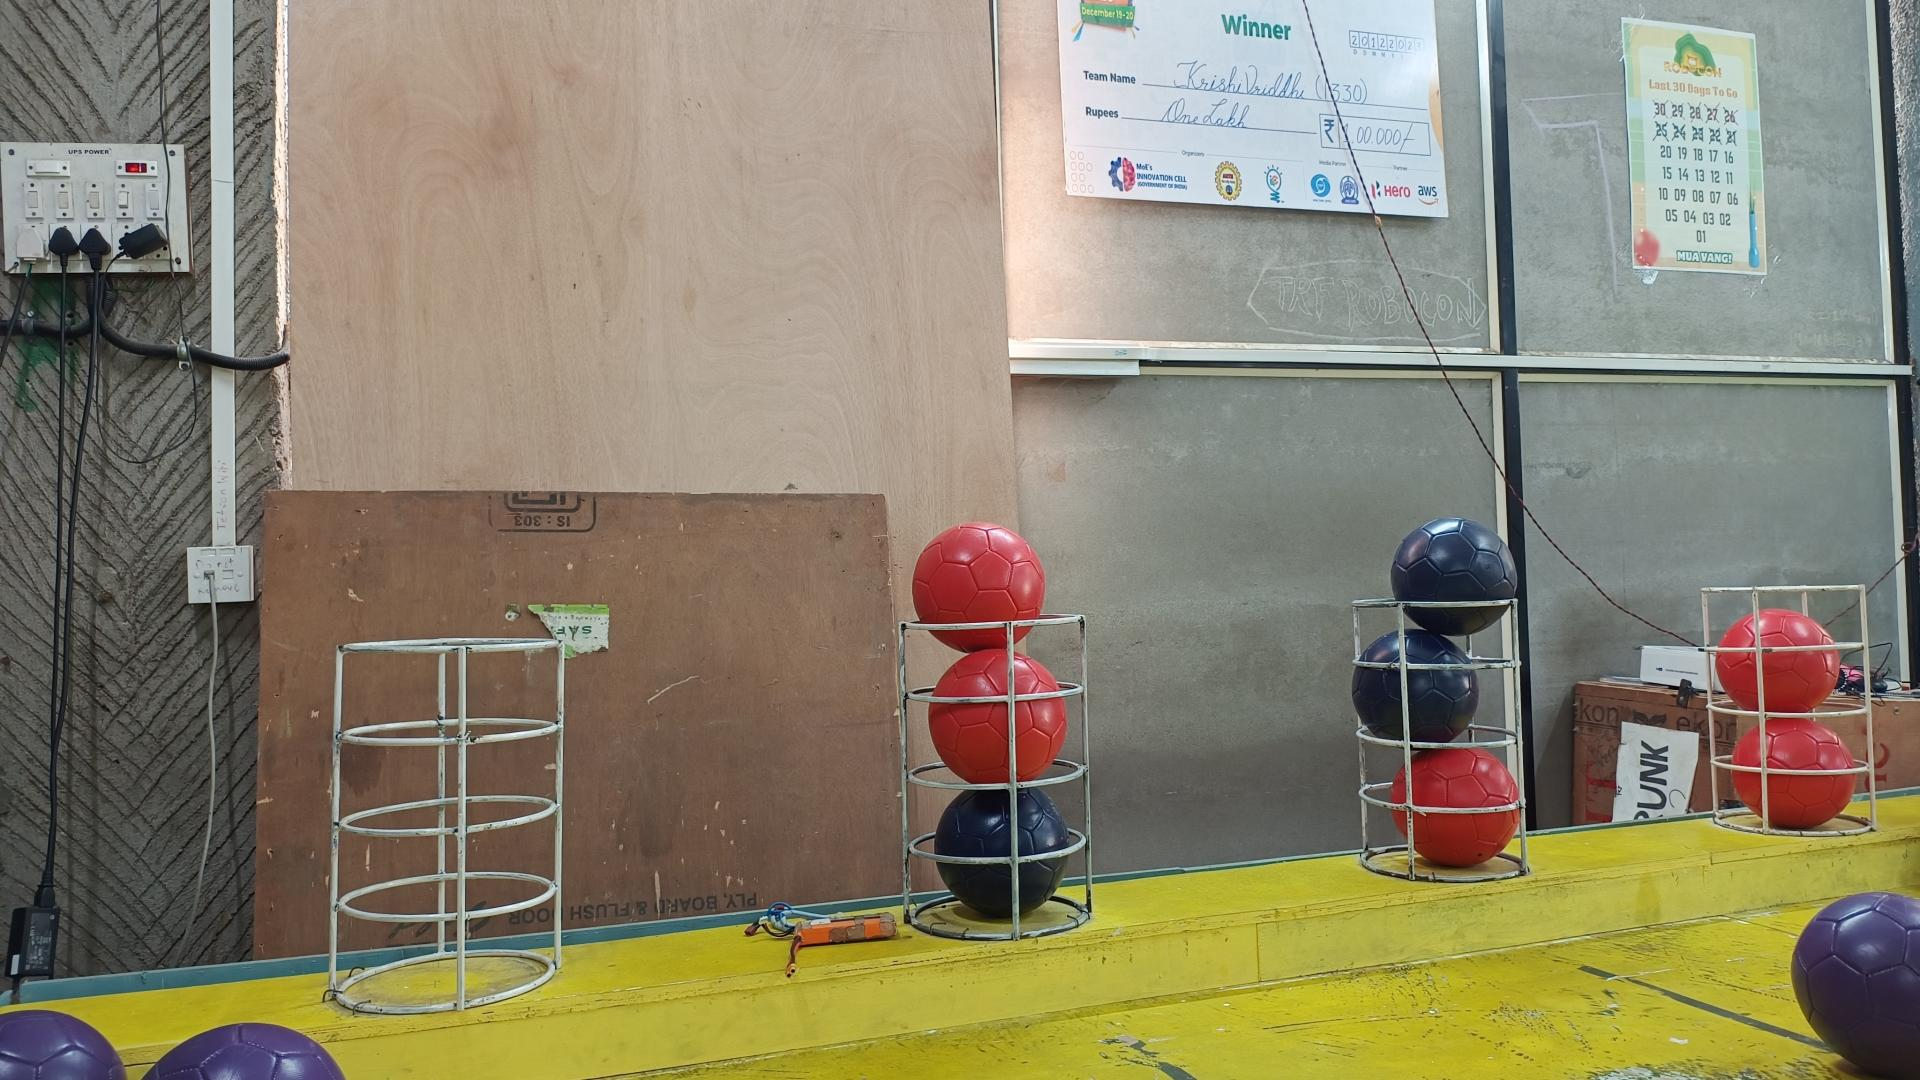dhoka: (932, 786, 1071, 916), (1390, 517, 1518, 637), (1353, 629, 1480, 742)
laale: (928, 649, 1067, 783), (914, 521, 1044, 653), (1387, 746, 1519, 866), (1730, 720, 1854, 828), (1717, 608, 1841, 712)
